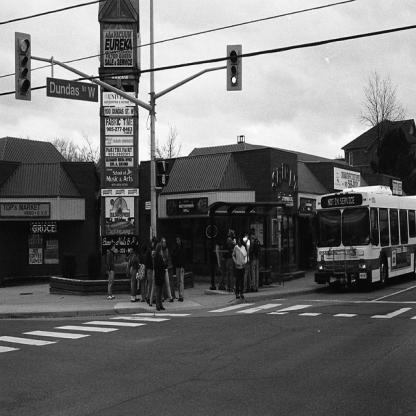Bus: (314, 187, 416, 292)
